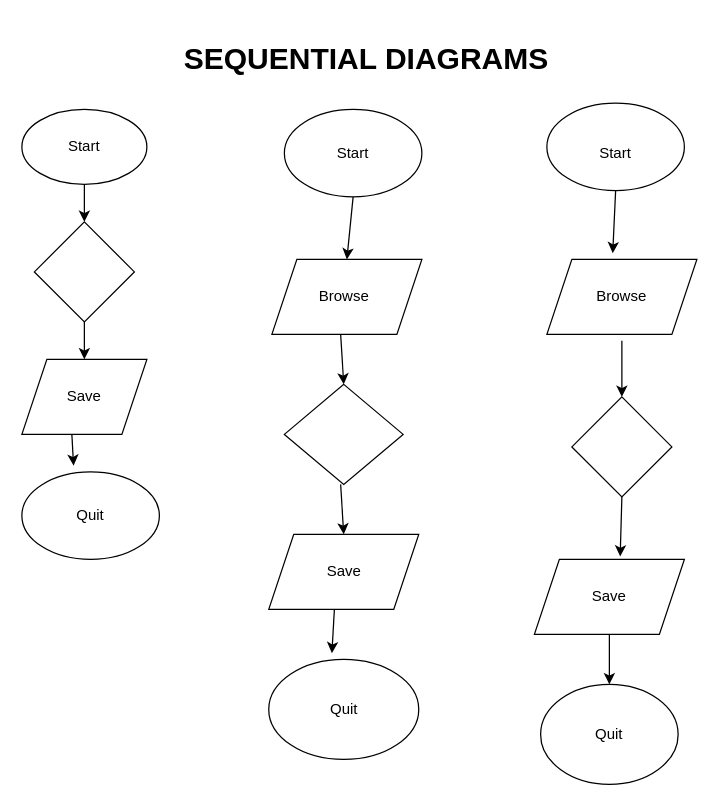
This 719x806 diagram has some shape labels left out. The shapes that lost their labels are listed below. From the top down, each one's centre as x and y in pixels, then its label:
At point 83,271: "Add".
At point 343,433: "Update".
At point 621,446: "Delete".
